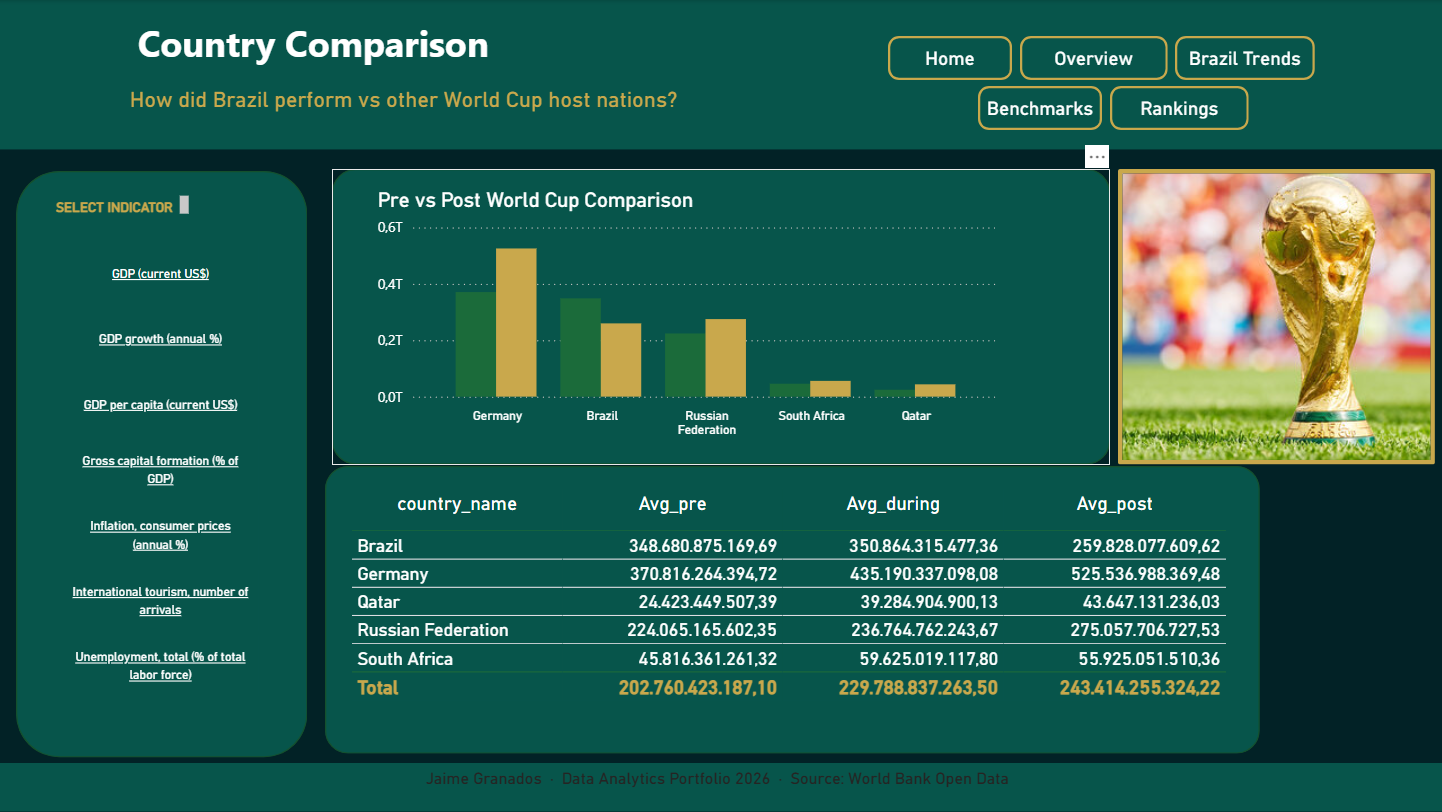

The dashboard page shown, as its layout file describes it:
{"tool":"powerbi","page":{"name":"Country Comparison","canvas":[1280,720],"ordinal":3},"visuals":[{"type":"shape","box":[0,0,1280,132.5],"z":0},{"type":"textbox","box":[118,11,462,65],"z":1000},{"type":"textbox","box":[101,72,600,43],"z":2000},{"type":"shape","box":[15,151.7,258.3,520],"z":3000},{"type":"textbox","box":[45,168.8,127.5,26.2],"z":4000},{"type":"slicer","fields":{"Values":["v_period_evolution.series_name"]},"box":[30,208,224,416],"z":5000},{"type":"shape","box":[295,150,690,262],"z":6000},{"type":"shape","box":[289,413.5,828.8,255],"z":7000},{"type":"clusteredColumnChart","title":"Pre vs Post World Cup Comparison","fields":{"Category":["v_period_evolution.country_name"],"Y":["Avg(v_period_evolution.avg_pre)","Avg(v_period_evolution.avg_post)"]},"box":[331,167,562,228],"z":8000},{"type":"tableEx","fields":{"Values":["v_period_evolution.country_name","Avg(v_period_evolution.avg_pre)","Avg(v_period_evolution.avg_during)","Avg(v_period_evolution.avg_post)"]},"box":[306.5,428.5,788.8,221.2],"z":9000},{"type":"image","box":[992,150,281,262],"z":10000},{"type":"shape","box":[0,676.7,1280,43.3],"z":11000},{"type":"textbox","box":[251.1,676.7,772.2,43.3],"z":12000},{"type":"actionButton","box":[905,32,131,39],"z":13000},{"type":"actionButton","box":[1043,32,124,39],"z":14000},{"type":"actionButton","box":[985,76,123,39],"z":15000},{"type":"actionButton","box":[868,76,110,39],"z":16000},{"type":"actionButton","box":[788,32,110,39],"z":17000}]}

Visuals, with their boxes in screenshot pixels (x1, y1, x2, y2), scaled from the page's 1280x720 canvas onto the 1442x812 screenshot:
shape: [left=0, top=0, right=1441, bottom=149]
textbox: [left=133, top=12, right=653, bottom=86]
textbox: [left=114, top=81, right=790, bottom=130]
shape: [left=17, top=171, right=308, bottom=758]
textbox: [left=51, top=190, right=194, bottom=220]
slicer - v_period_evolution.series_name: [left=34, top=235, right=286, bottom=704]
shape: [left=332, top=169, right=1110, bottom=465]
shape: [left=326, top=466, right=1259, bottom=754]
"Pre vs Post World Cup Comparison" clusteredColumnChart: [left=373, top=188, right=1006, bottom=445]
tableEx - v_period_evolution.country_name x Avg(v_period_evolution.avg_pre): [left=345, top=483, right=1234, bottom=733]
image: [left=1118, top=169, right=1434, bottom=465]
shape: [left=0, top=763, right=1441, bottom=811]
textbox: [left=283, top=763, right=1153, bottom=811]
actionButton: [left=1020, top=36, right=1167, bottom=80]
actionButton: [left=1175, top=36, right=1315, bottom=80]
actionButton: [left=1110, top=86, right=1248, bottom=130]
actionButton: [left=978, top=86, right=1102, bottom=130]
actionButton: [left=888, top=36, right=1012, bottom=80]
